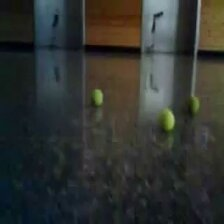tennis: (161, 110, 176, 133), (91, 89, 104, 108), (186, 96, 199, 115)
